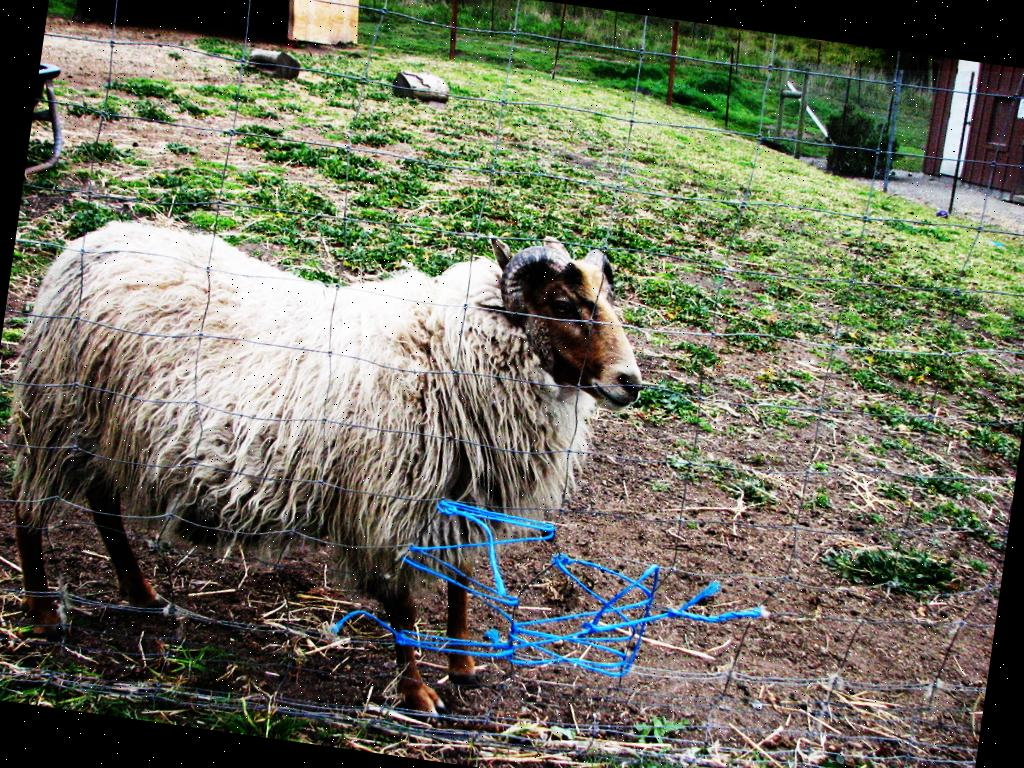Sheep: (0, 162, 663, 750)
